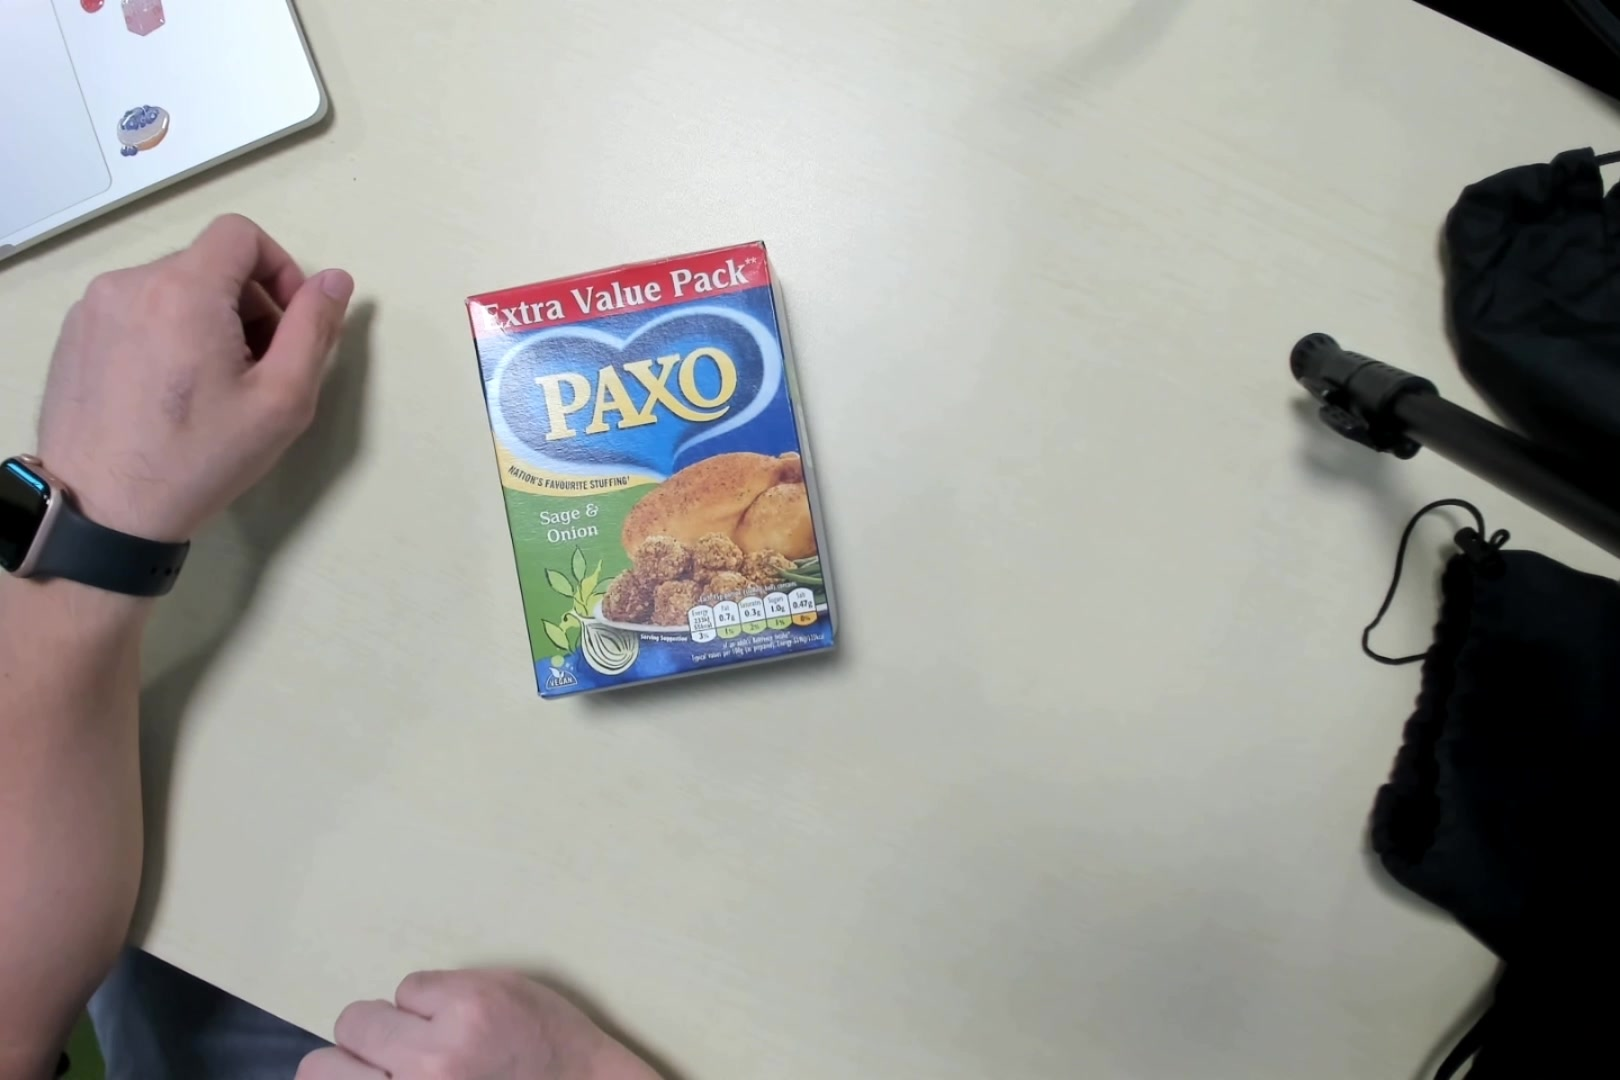OtherBakingNeeds_300-399g_NonHalal_NonHealthy: (464, 237, 839, 705)
